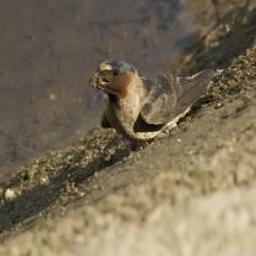Swallow: (90, 57, 218, 145)
